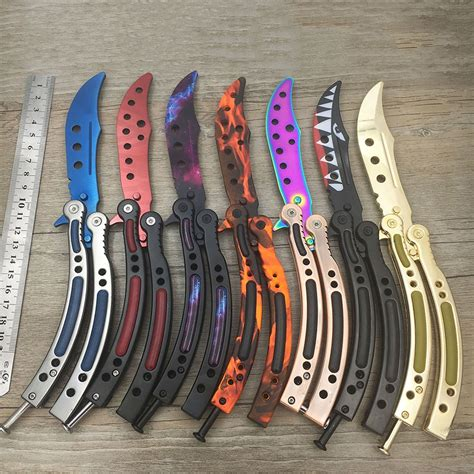knife: (356, 81, 466, 442), (311, 81, 409, 433), (22, 69, 114, 428), (263, 78, 351, 429), (88, 73, 175, 428), (211, 78, 292, 429), (155, 72, 235, 421)
